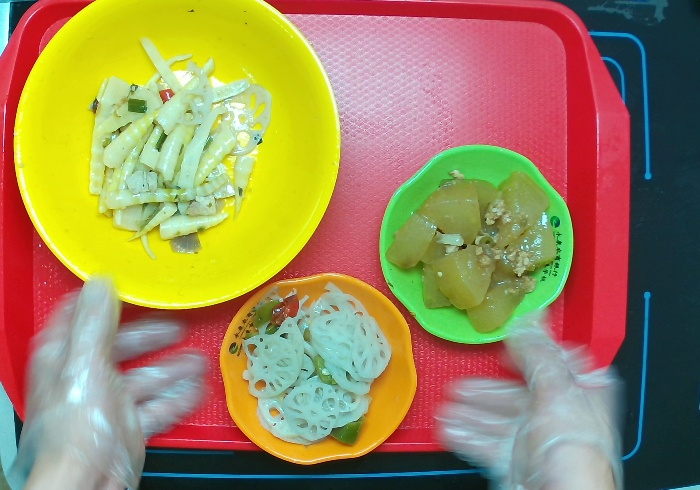YKMZ-Huang_Se_Tang_Wan: (11, 1, 342, 310)
YKMZ-Ju_Se_Ao_Bian_Wan: (219, 268, 416, 467)
YKMZ-Lv_Se_Ao_Bian_Wan: (379, 143, 576, 345)
